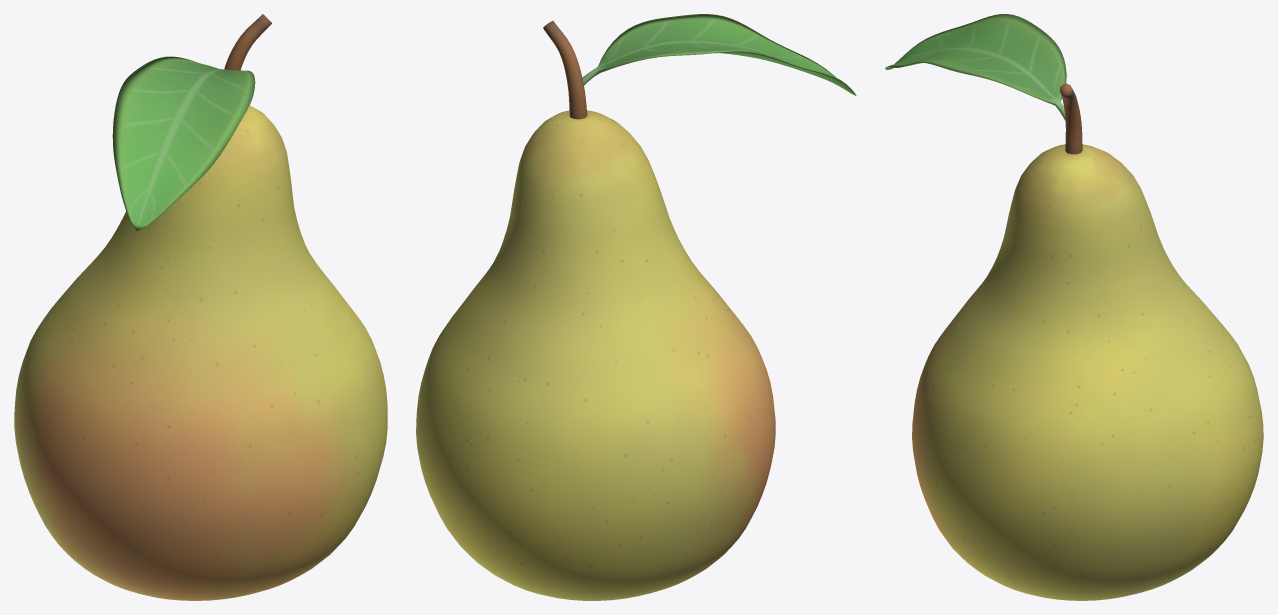
The model's file is pear.glb.
3 renders of one model, left to right at view 1: azimuth 30°, elevation 25°; view 2: azimuth 150°, elevation 25°; view 3: azimuth 270°, elevation 25°, orthographic. The views are drawn at different scales.
Visible parts, largest first — view 1: pear_body; view 2: pear_body; view 3: pear_body.
Part boxes in pixels (left/top/right/bottom): pear_body: left=14, top=14, right=387, bottom=600; pear_body: left=416, top=14, right=856, bottom=600; pear_body: left=885, top=14, right=1263, bottom=600.
Size of the model in its own units: 0.0747 by 0.1164 by 0.0784.
Materials: 1 (1 with a texture image).
